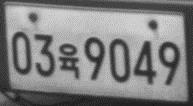0: (108, 37, 131, 83), (10, 30, 32, 75)
3: (33, 33, 55, 77)
4: (133, 39, 157, 85)
9: (157, 40, 180, 86), (83, 36, 106, 81)
육: (56, 42, 81, 81)
